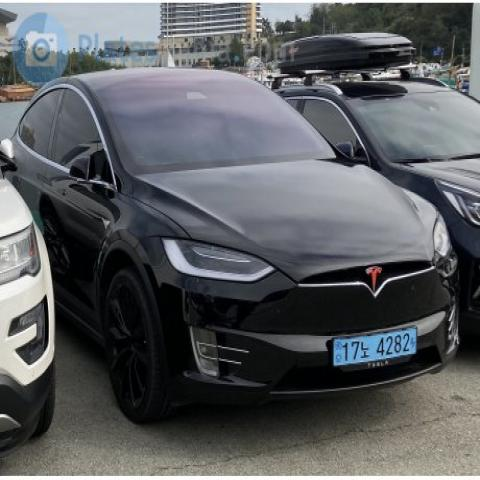LP: (326, 317, 420, 377)
